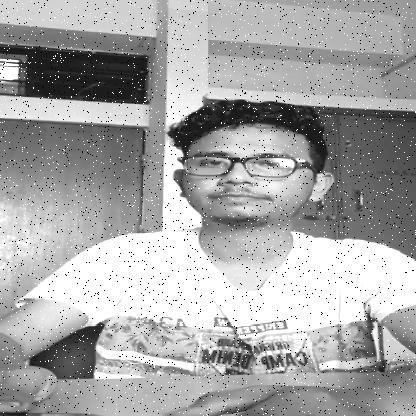Normal: (166, 99, 340, 226)
